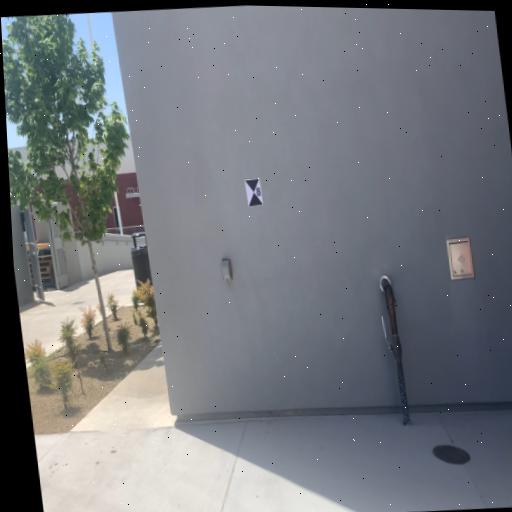target8: (245, 178, 264, 208)
